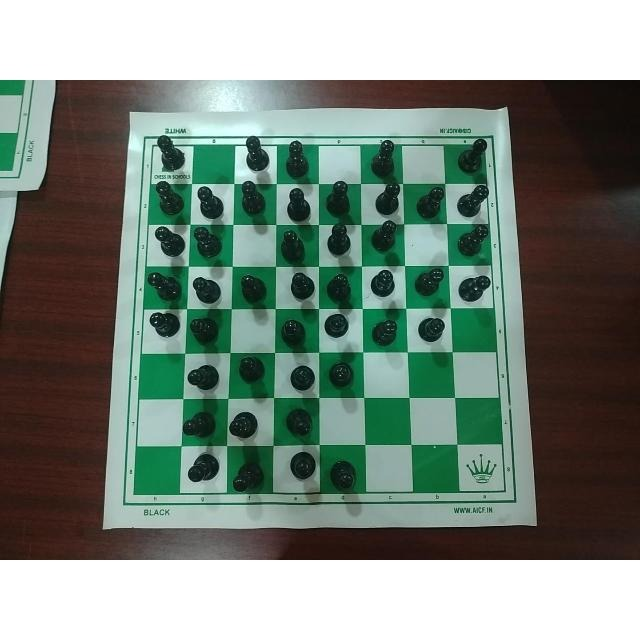black-pawn: (152, 178, 189, 222), (455, 179, 493, 221), (237, 134, 275, 174), (415, 313, 453, 352), (322, 222, 358, 261), (153, 133, 188, 172), (195, 182, 227, 224), (414, 180, 445, 223), (147, 263, 183, 300), (190, 272, 227, 308), (366, 219, 405, 253), (281, 406, 320, 440), (326, 458, 360, 497), (460, 270, 496, 306), (455, 226, 495, 258), (456, 139, 491, 175), (237, 178, 268, 218), (369, 181, 403, 217), (325, 179, 355, 219), (185, 360, 223, 391), (187, 452, 221, 486), (284, 136, 312, 177), (147, 309, 180, 343), (368, 314, 403, 346), (191, 225, 227, 256), (286, 268, 317, 304), (324, 270, 355, 306), (286, 453, 322, 484), (373, 137, 401, 176), (281, 186, 313, 220), (152, 226, 186, 258), (413, 264, 447, 296), (235, 353, 269, 385), (184, 408, 216, 442), (234, 460, 264, 496), (279, 230, 311, 262), (236, 273, 269, 304), (286, 365, 320, 395), (323, 309, 352, 344), (368, 268, 400, 299), (281, 317, 311, 348), (327, 359, 355, 392), (191, 315, 219, 347), (230, 408, 258, 440)
